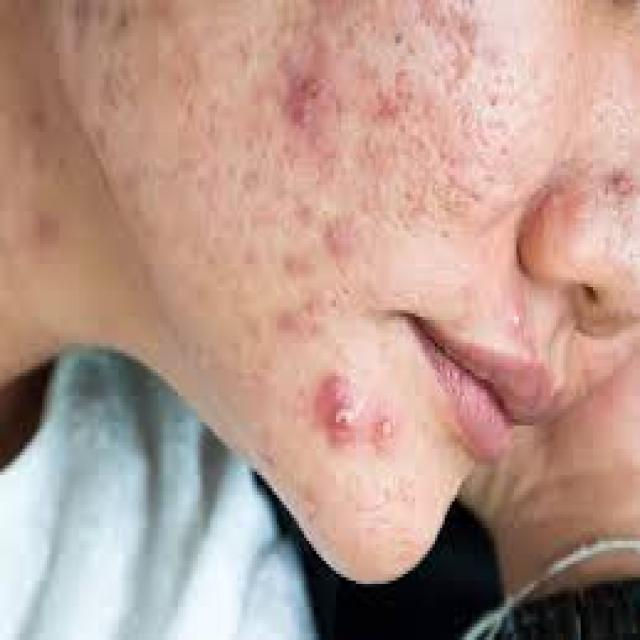Acne: (315, 370, 362, 452), (370, 409, 405, 453), (321, 215, 356, 259), (610, 167, 638, 204), (293, 70, 322, 102), (289, 102, 314, 134), (379, 94, 399, 121), (512, 301, 524, 337)
